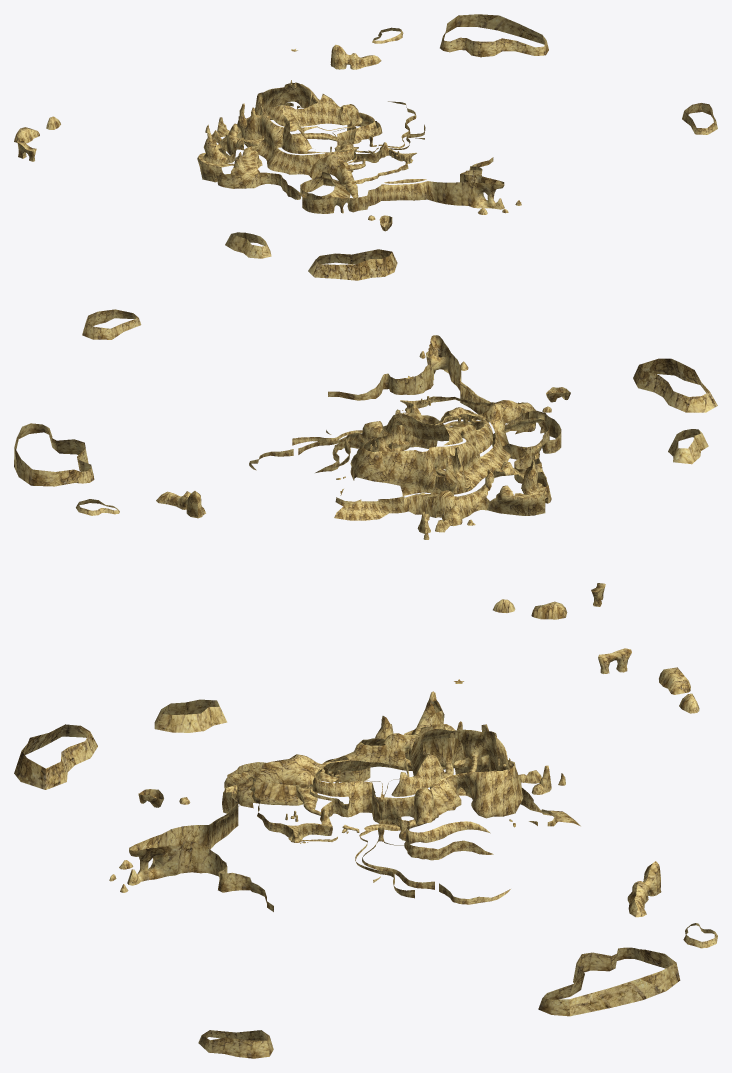
Rendered from FP_jog_island.md.017.obj.
3 views of the same model, one above another, from view 1: azimuth 30°, elevation 25°; view 2: azimuth 150°, elevation 25°; view 3: azimuth 270°, elevation 25° (orthographic). The views are drawn at different scales.
Parts seen in each view (by area): view 1: FP_jog_island.mo.017; view 2: FP_jog_island.mo.017; view 3: FP_jog_island.mo.017.
Part boxes in pixels (<box>): FP_jog_island.mo.017: <box>14,14,717,280</box>; FP_jog_island.mo.017: <box>14,309,717,619</box>; FP_jog_island.mo.017: <box>14,648,717,1058</box>.
Bounding box in the file's own units: 278 × 45.93 × 212.
Materials: 1 (1 with a texture image).
